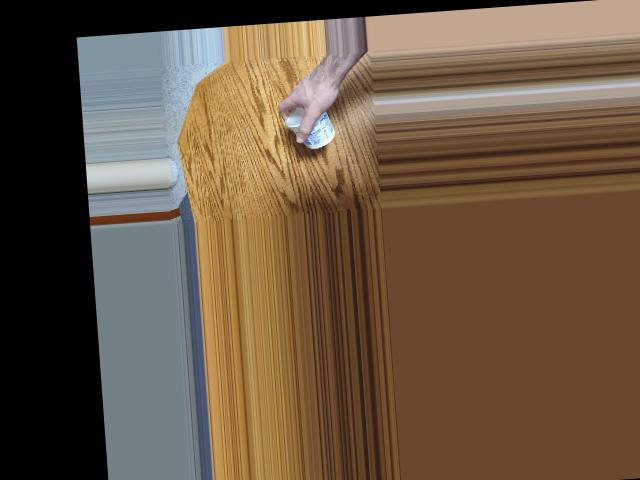cotage: (283, 101, 339, 152)
